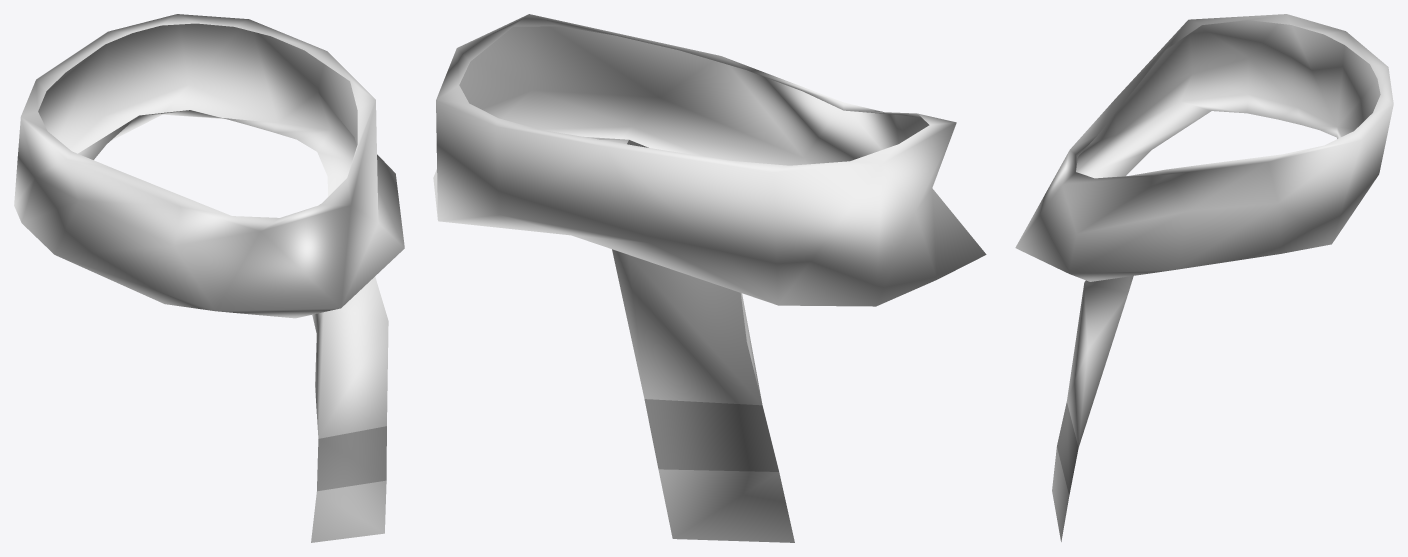
File: scarf.glb
3 renders of one model, left to right at view 1: azimuth 30°, elevation 25°; view 2: azimuth 150°, elevation 25°; view 3: azimuth 270°, elevation 25°, orthographic. The views are drawn at different scales.
Visible parts, largest first — view 1: Scarf; view 2: Scarf; view 3: Scarf.
Part boxes in pixels (bbox=[...]): Scarf: bbox=[14, 14, 404, 542]; Scarf: bbox=[433, 14, 986, 542]; Scarf: bbox=[1015, 14, 1393, 541].
Size of the model in its own units: 5.92 by 6.88 by 5.64.
1 material, 1 textured.
